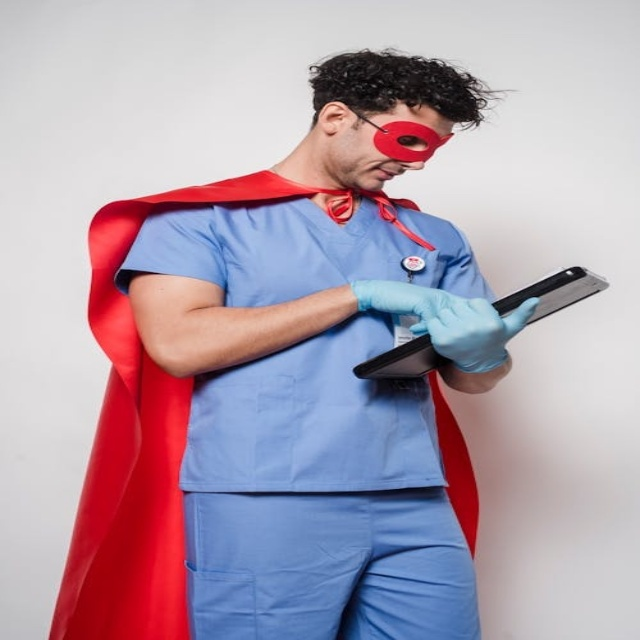Guantes: (414, 293, 537, 373), (347, 278, 456, 321)
Sin_gafas: (397, 135, 420, 147)
Sin_mascara: (362, 160, 415, 186)
